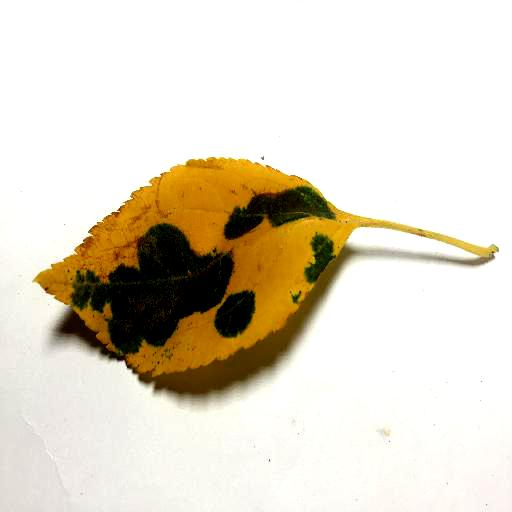Brown_Spot: (102, 265, 228, 319), (235, 201, 317, 223)
